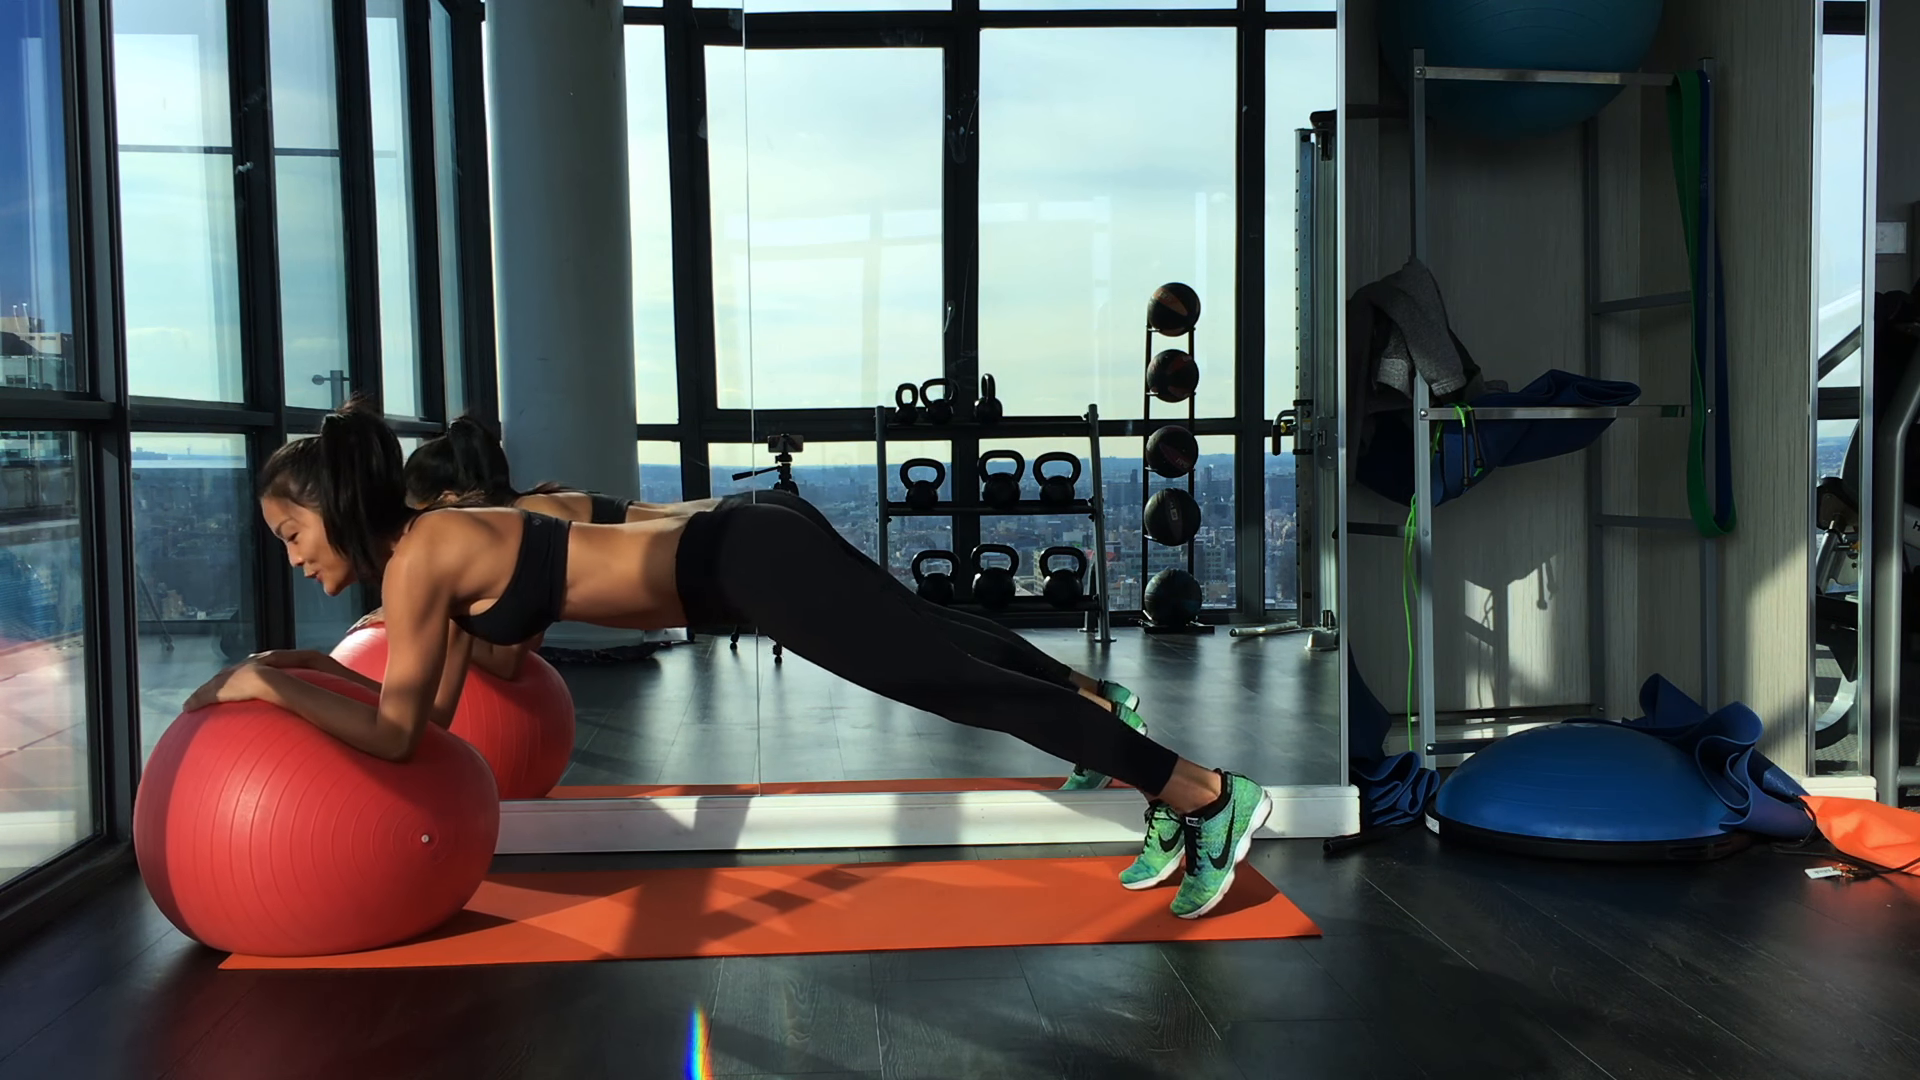yogaball: (131, 669, 502, 965)
